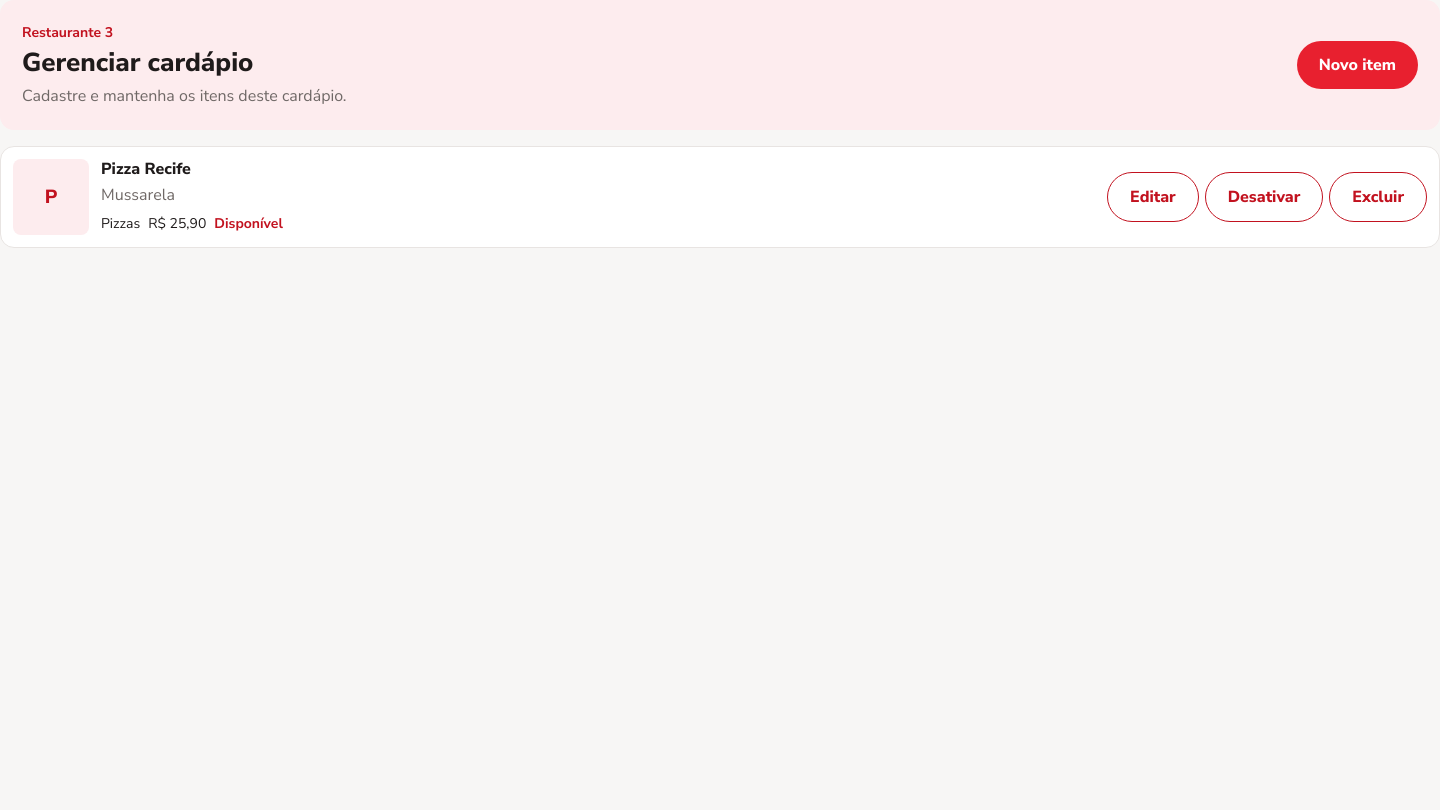
PainelCardapio › edita item preenchendo o preço atual em reais
Expected: the heading "Pizza Recife" is shown, top-left (101, 158), bottom-right (191, 180)
Click the button with aria-label "Editar Pizza Recife" at (1153, 197), box top-left (1107, 172), bottom-right (1199, 222)
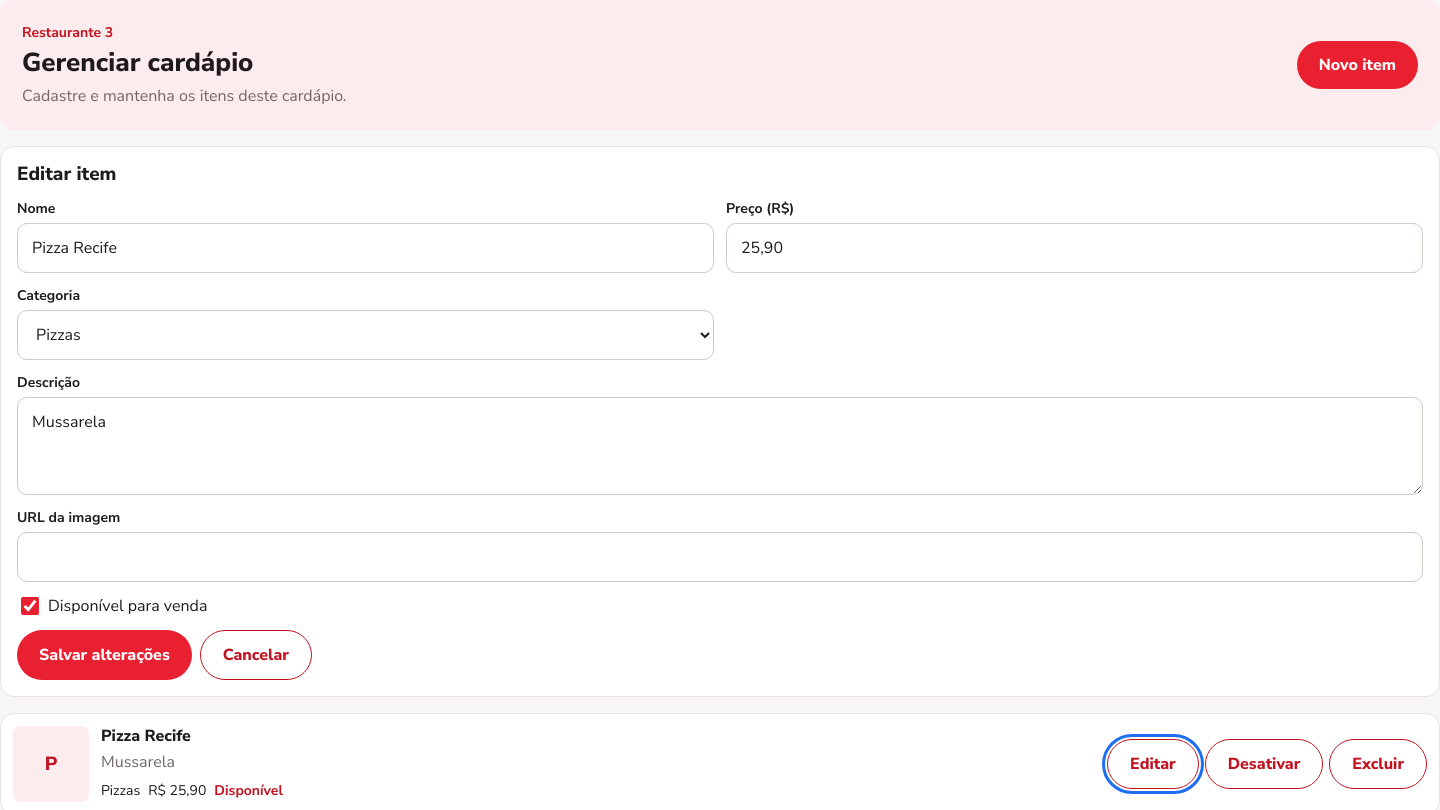
Result: the field labelled "Preço (R$)" holds "25,90" at top-left (726, 223), bottom-right (1423, 273)
Replace the text in the field labelled "Nome" with "Pizza Recife especial" at (366, 248), box top-left (17, 223), bottom-right (714, 273)
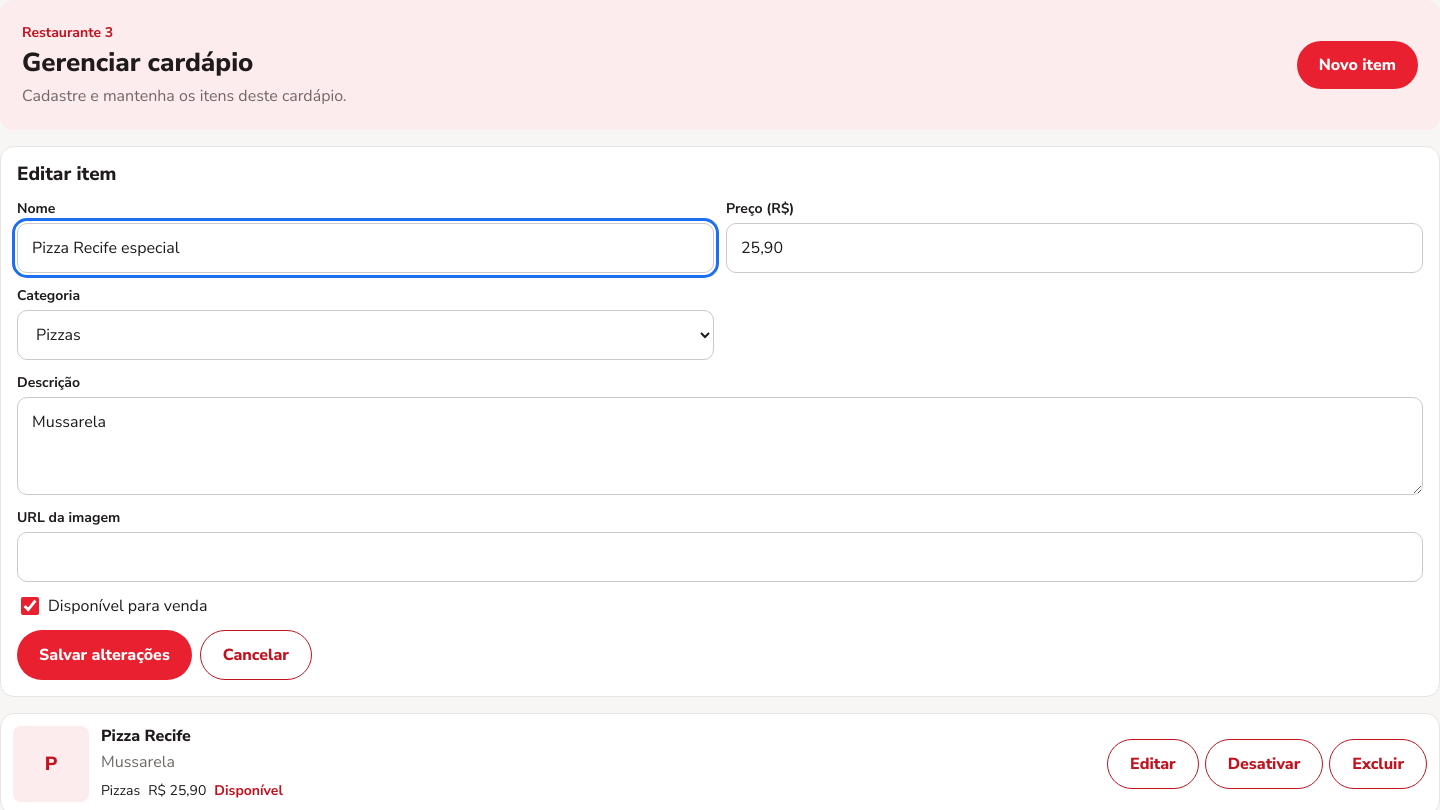
Click the button "Salvar alterações" at (104, 655), box top-left (17, 630), bottom-right (192, 680)
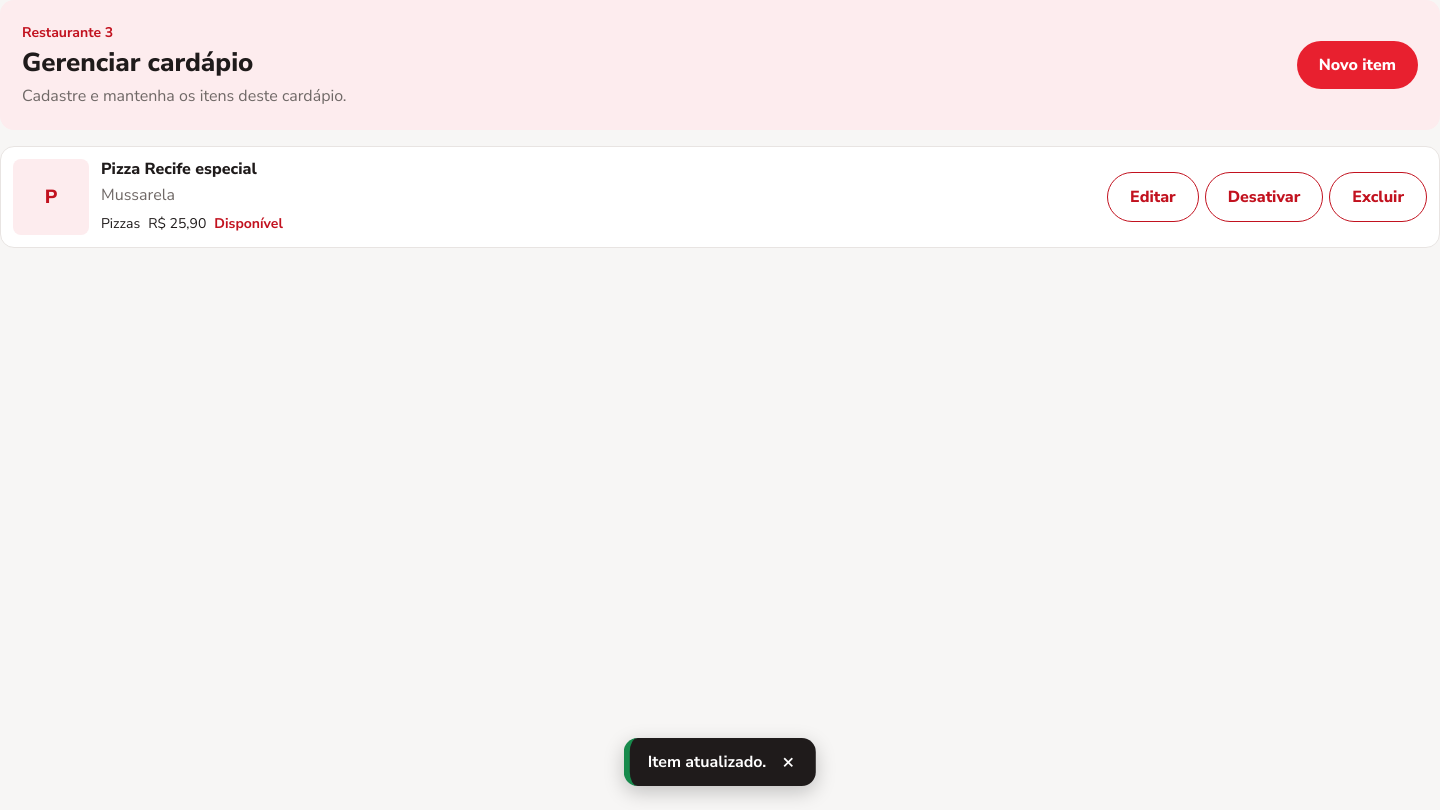
Result: the heading "Pizza Recife especial" is shown at top-left (101, 158), bottom-right (257, 180)
